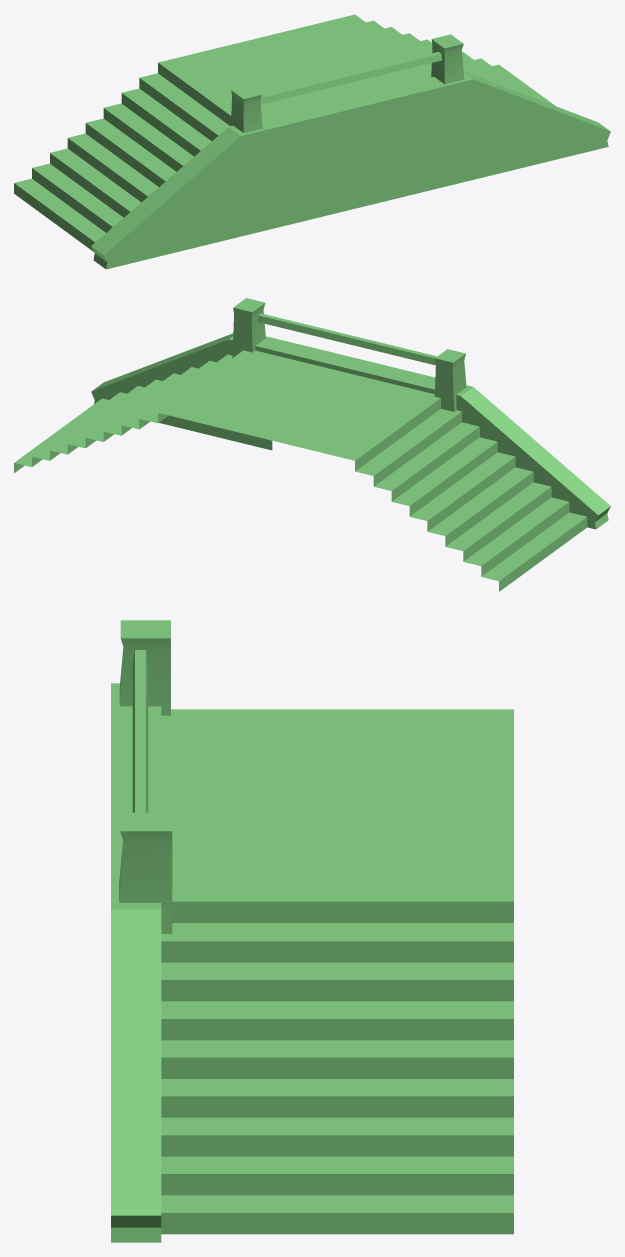
File: Bld3_Base_Staircase_B.fbx
3 renders of one model, top to bottom at view 1: azimuth 30°, elevation 25°; view 2: azimuth 150°, elevation 25°; view 3: azimuth 270°, elevation 25°, orthographic. The views are drawn at different scales.
Parts seen in each view (by area): view 1: Bld3_Base_Staircase_B; view 2: Bld3_Base_Staircase_B; view 3: Bld3_Base_Staircase_B.
Part boxes in pixels (x1,y1,x2,y2): Bld3_Base_Staircase_B: (14,14,610,269); Bld3_Base_Staircase_B: (14,298,610,591); Bld3_Base_Staircase_B: (111,620,513,1242).
Bounding box in the file's own units: 872 × 224 × 300.
